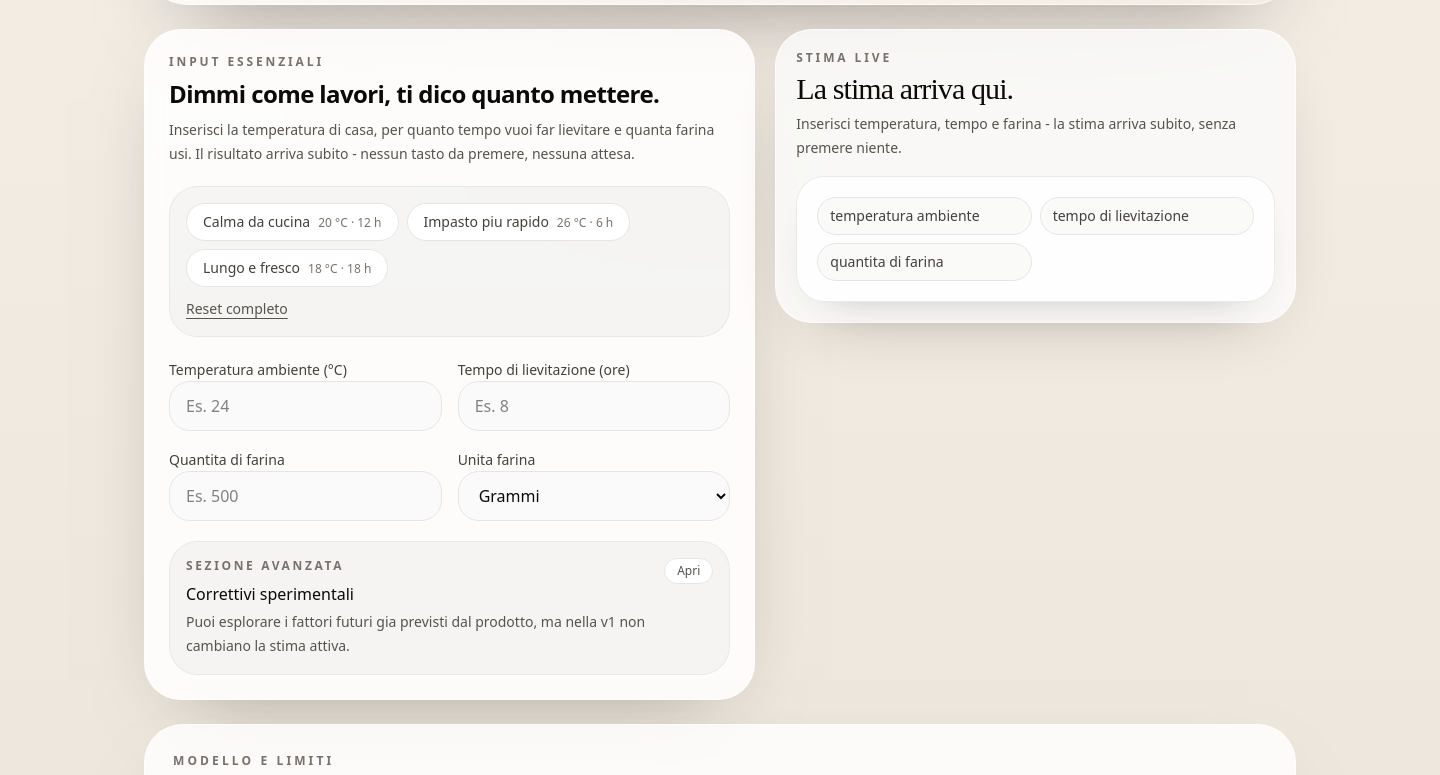
home page calculator flow › shows malformed input feedback and clears the numeric result
The width and height of the screenshot is (1440, 775).
(page scrolled)
Type "24" into the field labelled "Temperatura ambiente (°C)" at point(305, 406), box x1=169 y1=381 x2=442 y2=431
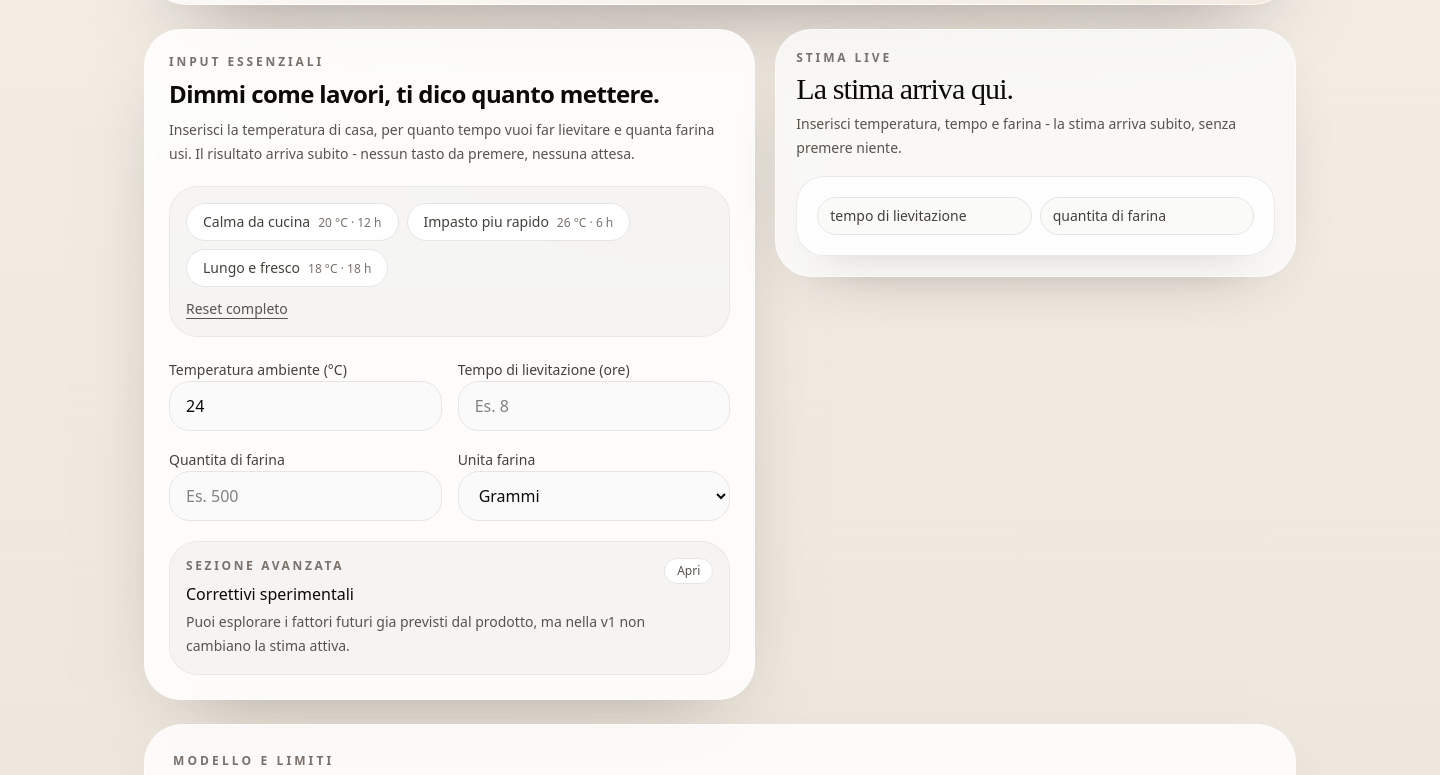
Type "8" into the field labelled "Tempo di lievitazione (ore)" at point(594, 406), box x1=458 y1=381 x2=730 y2=431
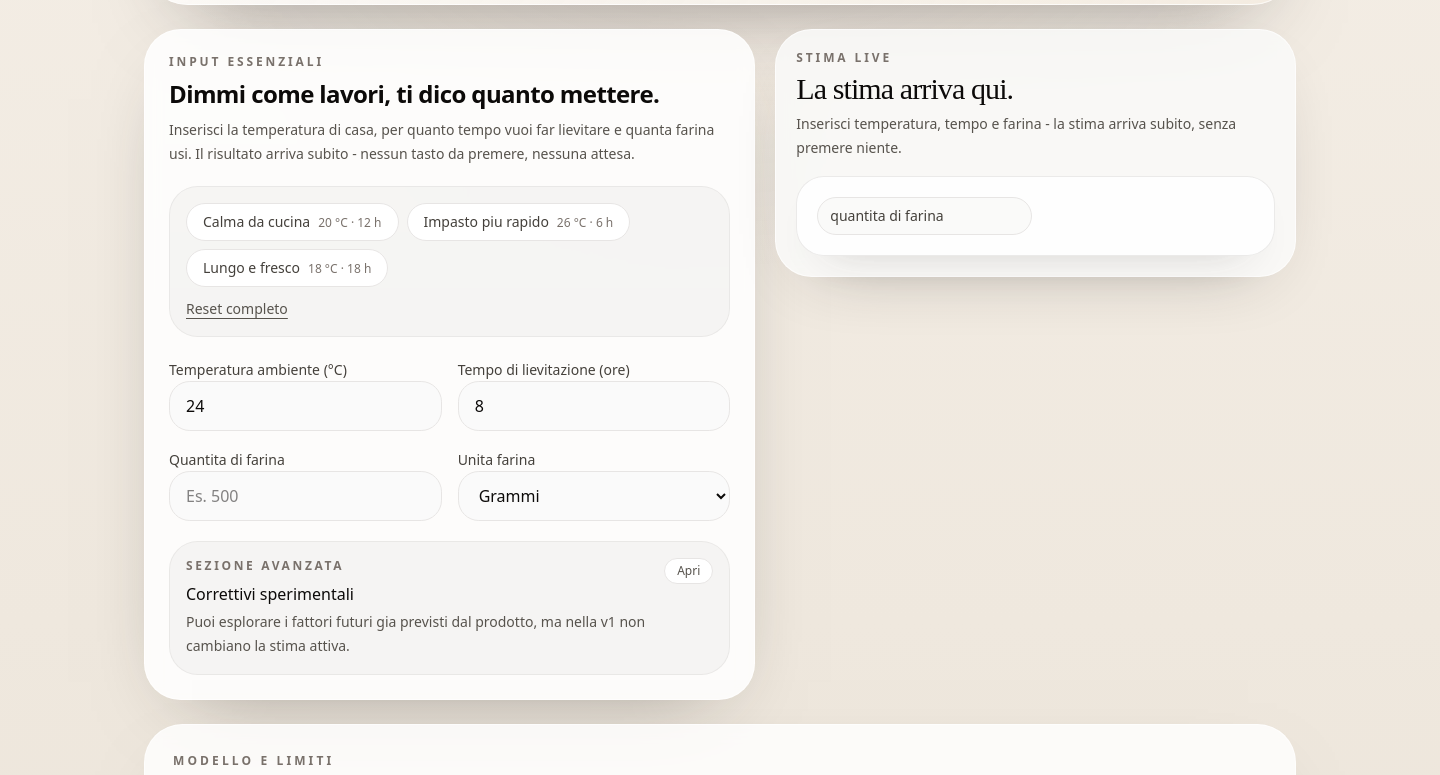
Type "500" into the field labelled "Quantita di farina" at point(305, 496), box x1=169 y1=471 x2=442 y2=521
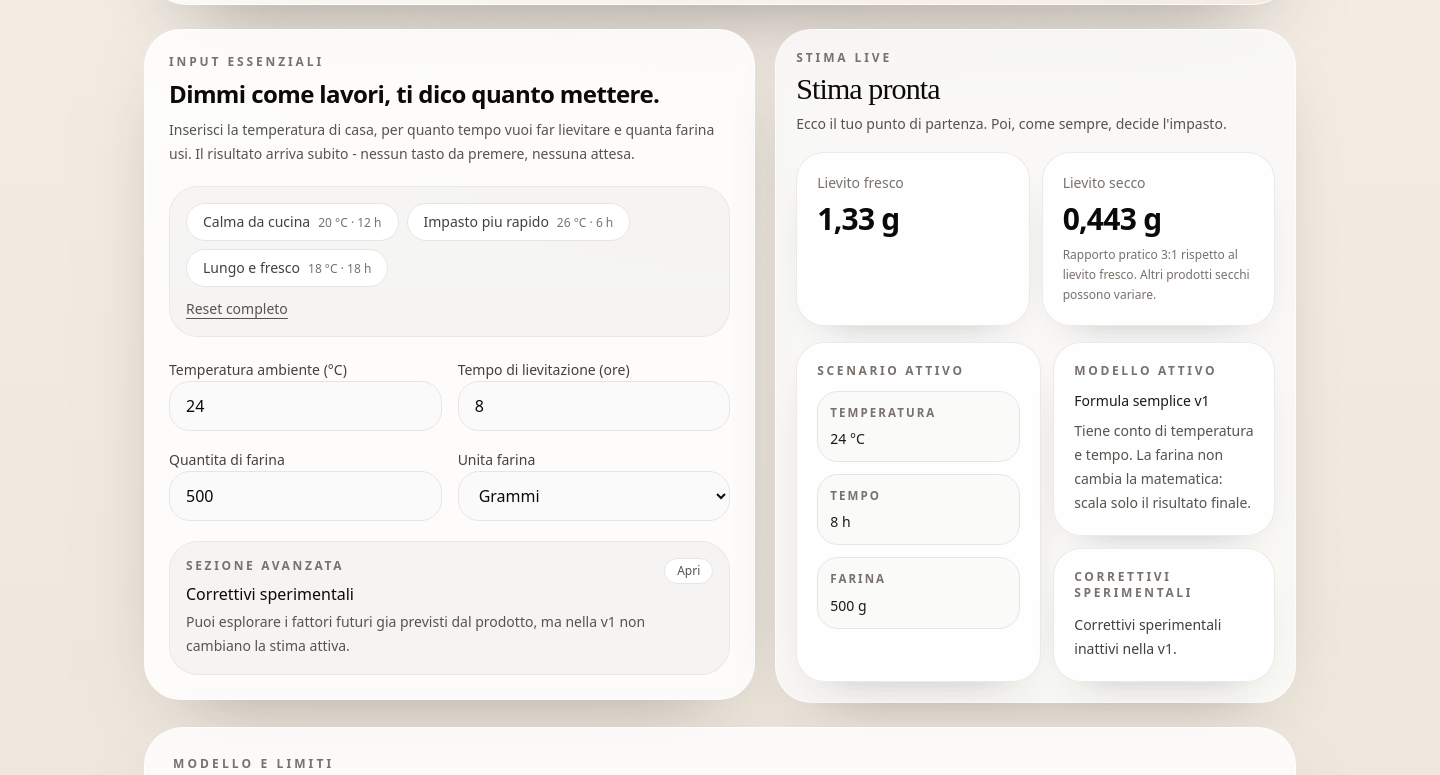
Replace the text in the field labelled "Temperatura ambiente (°C)" with "vento" at point(305, 406), box x1=169 y1=381 x2=442 y2=431
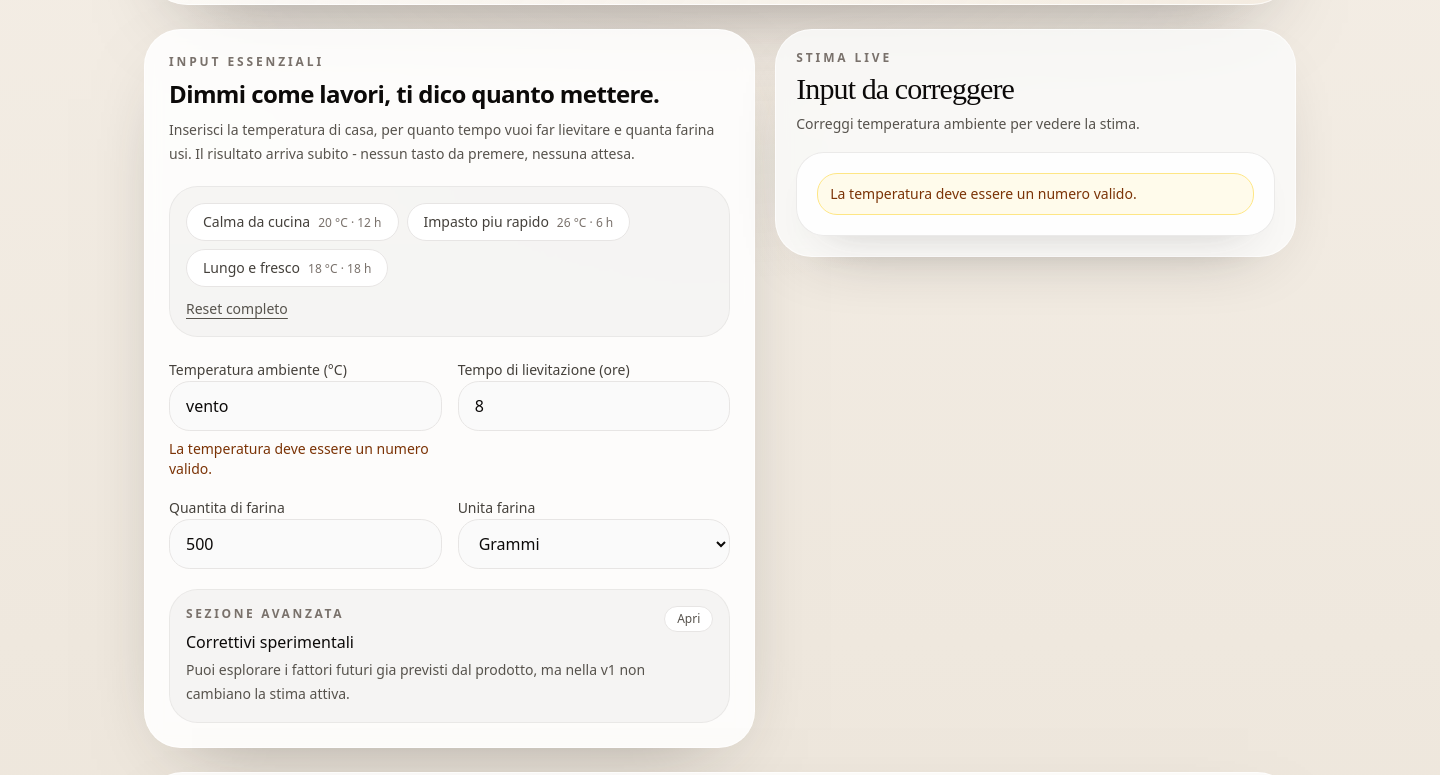
Check: the text with test id "grams-for-recipe-value" is gone
Check: the text "La temperatura deve essere un numero valido." is shown 2 times, box x1=169 y1=439 x2=442 y2=479; x1=817 y1=173 x2=1254 y2=215
Check: the text "Correggi temperatura ambiente per vedere la stima." is shown, box x1=796 y1=114 x2=1140 y2=133
